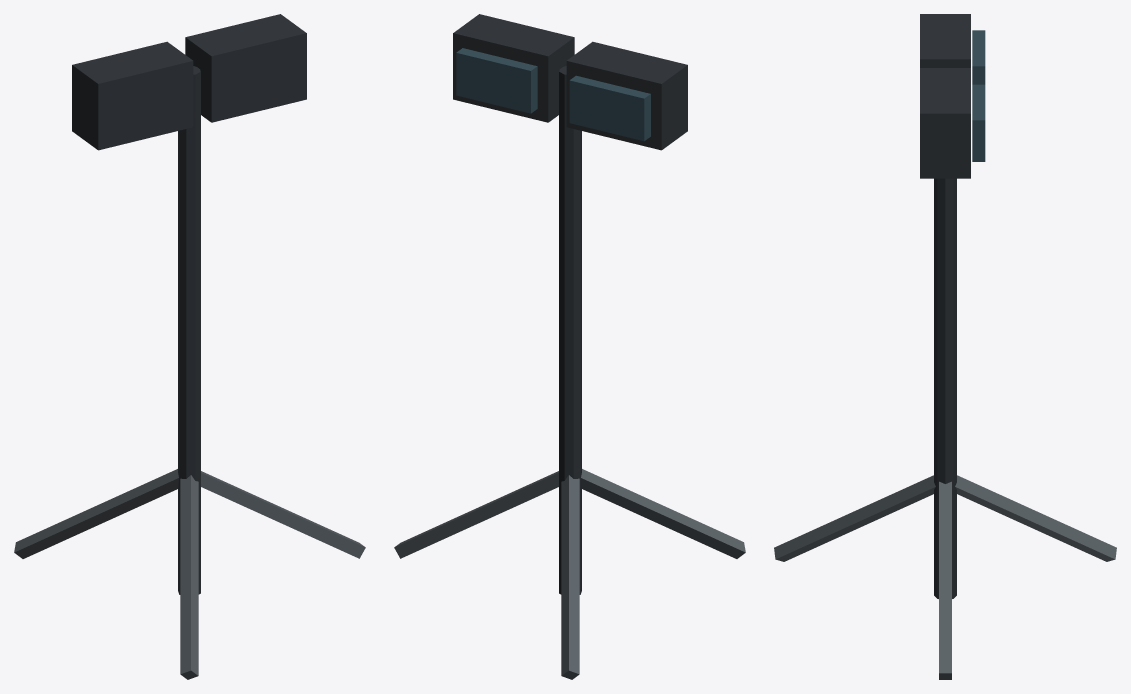
File: AUR_FloodlightTripod.obj
The picture shows the model from 3 angles, left to right: view 1: azimuth 30°, elevation 25°; view 2: azimuth 150°, elevation 25°; view 3: azimuth 270°, elevation 25°; orthographic projection. The views are drawn at different scales.
Visible parts, largest first — view 1: lamp_1, lamp_2, mast_0, tripod_6, tripod_7, tripod_5; view 2: mast_0, lamp_1, lamp_2, lens_3, lens_4, tripod_7, tripod_6, tripod_5; view 3: mast_0, lamp_2, tripod_6, tripod_7, lamp_1, tripod_5, lens_4, lens_3.
Part boxes in pixels (<box>): lamp_1: <box>72,41,193,150</box>; lamp_2: <box>185,14,306,122</box>; mast_0: <box>178,66,200,594</box>; tripod_6: <box>180,475,198,679</box>; tripod_7: <box>14,469,178,558</box>; tripod_5: <box>201,471,365,558</box>; mast_0: <box>559,66,581,594</box>; lamp_1: <box>566,41,687,150</box>; lamp_2: <box>453,14,574,122</box>; lens_3: <box>569,75,650,141</box>; lens_4: <box>456,48,537,113</box>; tripod_7: <box>561,475,579,679</box>; tripod_6: <box>581,469,745,558</box>; tripod_5: <box>394,471,558,558</box>; mast_0: <box>934,178,956,598</box>; lamp_2: <box>920,68,970,178</box>; tripod_6: <box>774,475,935,561</box>; tripod_7: <box>955,475,1116,561</box>; lamp_1: <box>920,14,970,67</box>; tripod_5: <box>939,481,951,679</box>; lens_4: <box>972,84,985,161</box>; lens_3: <box>972,30,985,84</box>.
Size of the model in its own units: 1.22 by 2.32 by 1.34.
